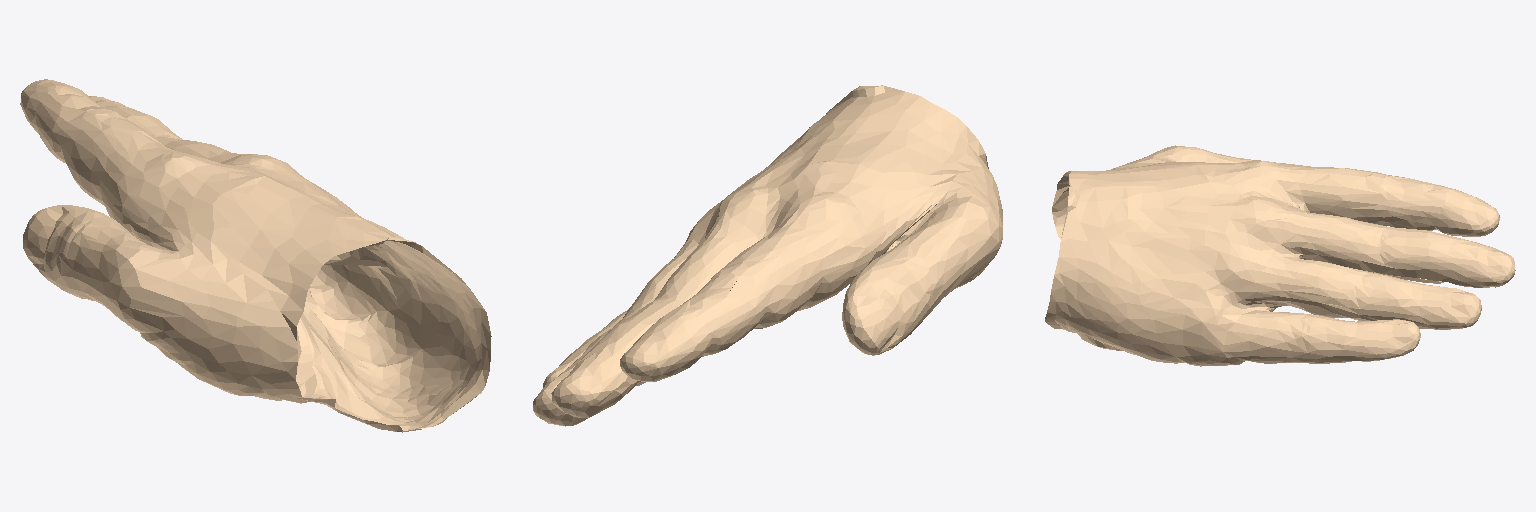
The robot description file, URDF, robot "hand_right":
<?xml version="1.0" ?>
<robot name="hand_right">

    <material name="SkinColor">
        <color rgba="1.0 0.88 0.74 1.0"/>
    </material>

    <link name="root">
        <inertial>
            <mass value="1"/>
            <inertia ixx="1.0" ixy="0.0" ixz="0.0" iyy="1.0" iyz="0.0" izz="1.0"/>
        </inertial>
    </link>

    <link name="base_0">
        <inertial>
            <mass value="1"/>
            <inertia ixx="1.0" ixy="0.0" ixz="0.0" iyy="1.0" iyz="0.0" izz="1.0"/>
        </inertial>
    </link>

    <link name="base">
        <visual>
            <geometry>
                <mesh filename="package://meshes/asr_cyberglove//bone_0_0.dae" scale="0.001 0.001 0.001" />
            </geometry>
            <material name="SkinColor"/>
        </visual>
        <collision>
            <geometry>
                <mesh filename="package://meshes/asr_cyberglove//bone_0_0.dae" scale="0.001 0.001 0.001" />
            </geometry>
        </collision>
        <inertial>
            <mass value="1"/>
            <inertia ixx="1.0" ixy="0.0" ixz="0.0" iyy="1.0" iyz="0.0" izz="1.0"/>
        </inertial>
    </link>

    <link name="pinky_meta_0">
        <visual>
            <geometry>
                <mesh filename="package://meshes/asr_cyberglove//bone_0_1.dae" scale="0.001 0.001 0.001" />
            </geometry>
            <material name="SkinColor"/>
        </visual>
        <collision>
            <geometry>
                <mesh filename="package://meshes/asr_cyberglove//bone_0_1.dae" scale="0.001 0.001 0.001" />
            </geometry>
        </collision>
        <inertial>
            <mass value="1"/>
            <inertia ixx="1.0" ixy="0.0" ixz="0.0" iyy="1.0" iyz="0.0" izz="1.0"/>
        </inertial>
    </link>

    <link name="pinky_meta">
        <inertial>
            <mass value="1"/>
            <inertia ixx="1.0" ixy="0.0" ixz="0.0" iyy="1.0" iyz="0.0" izz="1.0"/>
        </inertial>
    </link>

    <link name="pinky_proximal">
        <visual>
            <geometry>
                <mesh filename="package://meshes/asr_cyberglove//bone_0_2.dae" scale="0.001 0.001 0.001" />
            </geometry>
            <material name="SkinColor"/>
        </visual>
        <collision>
            <geometry>
                <mesh filename="package://meshes/asr_cyberglove//bone_0_2.dae" scale="0.001 0.001 0.001" />
            </geometry>
        </collision>
        <inertial>
            <mass value="1"/>
            <inertia ixx="1.0" ixy="0.0" ixz="0.0" iyy="1.0" iyz="0.0" izz="1.0"/>
        </inertial>
    </link>

    <link name="pinky_middle">
        <visual>
            <geometry>
                <mesh filename="package://meshes/asr_cyberglove//bone_0_3.dae" scale="0.001 0.001 0.001" />
            </geometry>
            <material name="SkinColor"/>
        </visual>
        <collision>
            <geometry>
                <mesh filename="package://meshes/asr_cyberglove//bone_0_3.dae" scale="0.001 0.001 0.001" />
            </geometry>
        </collision>
        <inertial>
            <mass value="1"/>
            <inertia ixx="1.0" ixy="0.0" ixz="0.0" iyy="1.0" iyz="0.0" izz="1.0"/>
        </inertial>
    </link>

    <link name="pinky_distal">
        <visual>
            <geometry>
                <mesh filename="package://meshes/asr_cyberglove//bone_0_4.dae" scale="0.001 0.001 0.001" />
            </geometry>
            <material name="SkinColor"/>
        </visual>
        <collision>
            <geometry>
                <mesh filename="package://meshes/asr_cyberglove//bone_0_4.dae" scale="0.001 0.001 0.001" />
            </geometry>
        </collision>
        <inertial>
            <mass value="1"/>
            <inertia ixx="1.0" ixy="0.0" ixz="0.0" iyy="1.0" iyz="0.0" izz="1.0"/>
        </inertial>
    </link>

    <link name="ring_meta_0">
        <visual>
            <geometry>
                <mesh filename="package://meshes/asr_cyberglove//bone_0_6.dae" scale="0.001 0.001 0.001" />
            </geometry>
            <material name="SkinColor"/>
        </visual>
        <collision>
            <geometry>
                <mesh filename="package://meshes/asr_cyberglove//bone_0_6.dae" scale="0.001 0.001 0.001" />
            </geometry>
        </collision>
        <inertial>
            <mass value="1"/>
            <inertia ixx="1.0" ixy="0.0" ixz="0.0" iyy="1.0" iyz="0.0" izz="1.0"/>
        </inertial>
    </link>

    <link name="ring_meta">
        <inertial>
            <mass value="1"/>
            <inertia ixx="1.0" ixy="0.0" ixz="0.0" iyy="1.0" iyz="0.0" izz="1.0"/>
        </inertial>
    </link>

    <link name="ring_proximal">
        <visual>
            <geometry>
                <mesh filename="package://meshes/asr_cyberglove//bone_0_7.dae" scale="0.001 0.001 0.001" />
            </geometry>
            <material name="SkinColor"/>
        </visual>
        <collision>
            <geometry>
                <mesh filename="package://meshes/asr_cyberglove//bone_0_7.dae" scale="0.001 0.001 0.001" />
            </geometry>
        </collision>
        <inertial>
            <mass value="1"/>
            <inertia ixx="1.0" ixy="0.0" ixz="0.0" iyy="1.0" iyz="0.0" izz="1.0"/>
        </inertial>
    </link>

    <link name="ring_middle">
        <visual>
            <geometry>
                <mesh filename="package://meshes/asr_cyberglove//bone_0_8.dae" scale="0.001 0.001 0.001" />
            </geometry>
            <material name="SkinColor"/>
        </visual>
        <collision>
            <geometry>
                <mesh filename="package://meshes/asr_cyberglove//bone_0_8.dae" scale="0.001 0.001 0.001" />
            </geometry>
        </collision>
        <inertial>
            <mass value="1"/>
            <inertia ixx="1.0" ixy="0.0" ixz="0.0" iyy="1.0" iyz="0.0" izz="1.0"/>
        </inertial>
    </link>

    <link name="ring_distal">
        <visual>
            <geometry>
                <mesh filename="package://meshes/asr_cyberglove//bone_0_9.dae" scale="0.001 0.001 0.001" />
            </geometry>
            <material name="SkinColor"/>
        </visual>
        <collision>
            <geometry>
                <mesh filename="package://meshes/asr_cyberglove//bone_0_9.dae" scale="0.001 0.001 0.001" />
            </geometry>
        </collision>
        <inertial>
            <mass value="1"/>
            <inertia ixx="1.0" ixy="0.0" ixz="0.0" iyy="1.0" iyz="0.0" izz="1.0"/>
        </inertial>
    </link>

    <link name="middle_meta_0">
        <visual>
            <geometry>
                <mesh filename="package://meshes/asr_cyberglove//bone_0_11.dae" scale="0.001 0.001 0.001" />
            </geometry>
            <material name="SkinColor"/>
        </visual>
        <collision>
            <geometry>
                <mesh filename="package://meshes/asr_cyberglove//bone_0_11.dae" scale="0.001 0.001 0.001" />
            </geometry>
        </collision>
        <inertial>
            <mass value="1"/>
            <inertia ixx="1.0" ixy="0.0" ixz="0.0" iyy="1.0" iyz="0.0" izz="1.0"/>
        </inertial>
    </link>

    <link name="middle_meta">
        <inertial>
            <mass value="1"/>
            <inertia ixx="1.0" ixy="0.0" ixz="0.0" iyy="1.0" iyz="0.0" izz="1.0"/>
        </inertial>
    </link>

    <link name="middle_proximal">
        <visual>
            <geometry>
                <mesh filename="package://meshes/asr_cyberglove//bone_0_12.dae" scale="0.001 0.001 0.001" />
            </geometry>
            <material name="SkinColor"/>
        </visual>
        <collision>
            <geometry>
                <mesh filename="package://meshes/asr_cyberglove//bone_0_12.dae" scale="0.001 0.001 0.001" />
            </geometry>
        </collision>
        <inertial>
            <mass value="1"/>
            <inertia ixx="1.0" ixy="0.0" ixz="0.0" iyy="1.0" iyz="0.0" izz="1.0"/>
        </inertial>
    </link>

    <link name="middle_middle">
        <visual>
            <geometry>
                <mesh filename="package://meshes/asr_cyberglove//bone_0_13.dae" scale="0.001 0.001 0.001" />
            </geometry>
            <material name="SkinColor"/>
        </visual>
        <collision>
            <geometry>
                <mesh filename="package://meshes/asr_cyberglove//bone_0_13.dae" scale="0.001 0.001 0.001" />
            </geometry>
        </collision>
        <inertial>
            <mass value="1"/>
            <inertia ixx="1.0" ixy="0.0" ixz="0.0" iyy="1.0" iyz="0.0" izz="1.0"/>
        </inertial>
    </link>

    <link name="middle_distal">
        <visual>
            <geometry>
                <mesh filename="package://meshes/asr_cyberglove//bone_0_14.dae" scale="0.001 0.001 0.001" />
            </geometry>
            <material name="SkinColor"/>
        </visual>
        <collision>
            <geometry>
                <mesh filename="package://meshes/asr_cyberglove//bone_0_14.dae" scale="0.001 0.001 0.001" />
            </geometry>
        </collision>
        <inertial>
            <mass value="1"/>
            <inertia ixx="1.0" ixy="0.0" ixz="0.0" iyy="1.0" iyz="0.0" izz="1.0"/>
        </inertial>
    </link>

    <link name="index_meta_0">
        <visual>
            <geometry>
                <mesh filename="package://meshes/asr_cyberglove//bone_0_16.dae" scale="0.001 0.001 0.001" />
            </geometry>
            <material name="SkinColor"/>
        </visual>
        <collision>
            <geometry>
                <mesh filename="package://meshes/asr_cyberglove//bone_0_16.dae" scale="0.001 0.001 0.001" />
            </geometry>
        </collision>
        <inertial>
            <mass value="1"/>
            <inertia ixx="1.0" ixy="0.0" ixz="0.0" iyy="1.0" iyz="0.0" izz="1.0"/>
        </inertial>
    </link>

    <link name="index_meta">
        <inertial>
            <mass value="1"/>
            <inertia ixx="1.0" ixy="0.0" ixz="0.0" iyy="1.0" iyz="0.0" izz="1.0"/>
        </inertial>
    </link>

    <link name="index_proximal">
        <visual>
            <geometry>
            <mesh filename="package://meshes/asr_cyberglove//bone_0_17.dae" scale="0.001 0.001 0.001" />
            </geometry>
            <material name="SkinColor"/>
        </visual>
        <collision>
            <geometry>
                <mesh filename="package://meshes/asr_cyberglove//bone_0_17.dae" scale="0.001 0.001 0.001" />
            </geometry>
        </collision>
        <inertial>
            <mass value="1"/>
            <inertia ixx="1.0" ixy="0.0" ixz="0.0" iyy="1.0" iyz="0.0" izz="1.0"/>
        </inertial>
    </link>

    <link name="index_middle">
        <visual>
            <geometry>
                <mesh filename="package://meshes/asr_cyberglove//bone_0_18.dae" scale="0.001 0.001 0.001" />
            </geometry>
            <material name="SkinColor"/>
        </visual>
        <collision>
            <geometry>
                <mesh filename="package://meshes/asr_cyberglove//bone_0_18.dae" scale="0.001 0.001 0.001" />
            </geometry>
        </collision>
        <inertial>
            <mass value="1"/>
            <inertia ixx="1.0" ixy="0.0" ixz="0.0" iyy="1.0" iyz="0.0" izz="1.0"/>
        </inertial>
    </link>

    <link name="index_distal">
        <visual>
            <geometry>
                <mesh filename="package://meshes/asr_cyberglove//bone_0_19.dae" scale="0.001 0.001 0.001" />
            </geometry>
            <material name="SkinColor"/>
        </visual>
        <collision>
            <geometry>
                <mesh filename="package://meshes/asr_cyberglove//bone_0_19.dae" scale="0.001 0.001 0.001" />
            </geometry>
        </collision>
        <inertial>
            <mass value="1"/>
            <inertia ixx="1.0" ixy="0.0" ixz="0.0" iyy="1.0" iyz="0.0" izz="1.0"/>
        </inertial>
    </link>

    <link name="thumb_meta_0">
        <inertial>
            <mass value="1"/>
            <inertia ixx="1.0" ixy="0.0" ixz="0.0" iyy="1.0" iyz="0.0" izz="1.0"/>
        </inertial>
    </link>

    <link name="thumb_meta">
        <visual>
            <geometry>
                <mesh filename="package://meshes/asr_cyberglove//bone_0_21.dae" scale="0.001 0.001 0.001" />
            </geometry>
            <material name="SkinColor"/>
        </visual>
        <collision>
            <geometry>
                <mesh filename="package://meshes/asr_cyberglove//bone_0_21.dae" scale="0.001 0.001 0.001" />
            </geometry>
        </collision>
        <inertial>
            <mass value="1"/>
            <inertia ixx="1.0" ixy="0.0" ixz="0.0" iyy="1.0" iyz="0.0" izz="1.0"/>
        </inertial>
    </link>

    <link name="thumb_proximal">
        <visual>
            <geometry>
                <mesh filename="package://meshes/asr_cyberglove//bone_0_22.dae" scale="0.001 0.001 0.001" />
            </geometry>
            <material name="SkinColor"/>
        </visual>
        <collision>
            <geometry>
                <mesh filename="package://meshes/asr_cyberglove//bone_0_22.dae" scale="0.001 0.001 0.001" />
            </geometry>
        </collision>
        <inertial>
            <mass value="1"/>
            <inertia ixx="1.0" ixy="0.0" ixz="0.0" iyy="1.0" iyz="0.0" izz="1.0"/>
        </inertial>
    </link>

    <link name="thumb_distal">
        <visual>
            <geometry>
                <mesh filename="package://meshes/asr_cyberglove//bone_0_23.dae" scale="0.001 0.001 0.001" />
            </geometry>
            <material name="SkinColor"/>
        </visual>
        <collision>
            <geometry>
                <mesh filename="package://meshes/asr_cyberglove//bone_0_23.dae" scale="0.001 0.001 0.001" />
            </geometry>
        </collision>
        <inertial>
            <mass value="1"/>
            <inertia ixx="1.0" ixy="0.0" ixz="0.0" iyy="1.0" iyz="0.0" izz="1.0"/>
        </inertial>
    </link>

    <joint name="wr_j0" type="revolute">
        <parent link="root"/>
        <child link="base_0"/>
        <origin xyz="0 0 0" rpy="1.57 0 0" />
        <axis xyz="0 0 1" />
        <limit lower="-0.698131700798" upper="0.488692190558"/>
    </joint>

    <joint name="wr_j1" type="revolute">
        <parent link="base_0"/>
        <child link="base"/>
        <axis xyz="1 0 0" />
        <limit lower="-0.523598775598" upper="0.174532925199" />
    </joint>

    <joint name="base_pinky" type="fixed">
        <parent link="base"/>
        <child link="pinky_meta_0"/>
        <origin xyz="-0.024912 0.008636 0.002422" rpy="2.80824 -0.811484 -2.74123" />
    </joint>

    <joint name="pi_j0" type="continuous">
        <parent link="pinky_meta_0"/>
        <child link="pinky_meta"/>
        <origin xyz="0.000000 0.063265 -0.000000" rpy="0.0196487 -0.191181 0.113497" />
        <axis xyz="0 0 1" />
    </joint>

    <joint name="pi_j1" type="continuous">
        <parent link="pinky_meta"/>
        <child link="pinky_proximal"/>
        <axis xyz="1 0 0" />
    </joint>

    <joint name="pi_j2" type="continuous">
        <parent link="pinky_proximal"/>
        <child link="pinky_middle"/>
        <origin xyz="0.000000 0.034557 0.000000" rpy="0.0304249 -0.0981504 0.133914" />
        <axis xyz="1 0 0" />
    </joint>

    <joint name="pi_j3" type="continuous">
        <parent link="pinky_middle"/>
        <child link="pinky_distal"/>
        <origin xyz="0.000000 0.025298 -0.000000" rpy="-0.0317568 0.00503542 0.0988644" />
        <axis xyz="1 0 0" />
    </joint>

    <joint name="base_ring" type="fixed">
        <parent link="base"/>
        <child link="ring_meta_0"/>
        <origin xyz="-0.012468 0.014241 -0.007279" rpy="3.03476 -0.620396 -2.98236" />
    </joint>

    <joint name="ri_j0" type="continuous">
        <parent link="ring_meta_0"/>
        <child link="ring_meta"/>
        <origin xyz="0.000000 0.069086 -0.000000" rpy="-0.153666 -0.161247 0.0107861" />
        <axis xyz="0 0 1" />
    </joint>

    <joint name="ri_j1" type="continuous">
        <parent link="ring_meta"/>
        <child link="ring_proximal"/>
        <axis xyz="1 0 0" />
    </joint>

    <joint name="ri_j2" type="continuous">
        <parent link="ring_proximal"/>
        <child link="ring_middle"/>
        <origin xyz="-0.000000 0.042662 -0.000000" rpy="0.0661994 0.10508 -0.0317381" />
        <axis xyz="1 0 0" />
    </joint>

    <joint name="ri_j3" type="continuous">
        <parent link="ring_middle"/>
        <child link="ring_distal"/>
        <origin xyz="0.000000 0.028928 0.000000" rpy="0.102201 -0.0505654 0.0213048" />
        <axis xyz="1 0 0" />
    </joint>

    <joint name="base_middle" type="fixed">
        <parent link="base"/>
        <child link="middle_meta_0"/>
        <origin xyz="0.001406 0.015512 -0.015156" rpy="3.13273 -0.39616 -3.08577" />
    </joint>

    <joint name="mi_j0" type="continuous">
        <parent link="middle_meta_0"/>
        <child link="middle_meta"/>
        <origin xyz="0.000000 0.073864 -0.000000" rpy="-0.182864 0.0762588 -0.0585634" />
        <axis xyz="0 0 1" />
    </joint>

    <joint name="mi_j1" type="continuous">
        <parent link="middle_meta"/>
        <child link="middle_proximal"/>
        <axis xyz="1 0 0" />
    </joint>

    <joint name="mi_j2" type="continuous">
        <parent link="middle_proximal"/>
        <child link="middle_middle"/>
        <origin xyz="0.000000 0.047566 -0.000000" rpy="0.109335 -0.0553835 -0.0593373" />
        <axis xyz="1 0 0" />
    </joint>

    <joint name="mi_j3" type="continuous">
        <parent link="middle_middle"/>
        <child link="middle_distal"/>
        <origin xyz="0.000000 0.034300 -0.000000" rpy="-0.0872514 -0.116106 0.0635088" />
        <axis xyz="1 0 0" />
    </joint>

    <joint name="base_index" type="fixed">
        <parent link="base"/>
        <child link="index_meta_0"/>
        <origin xyz="0.013404 0.016245 -0.018323" rpy="-3.09499 -0.222842 3.05505" />
    </joint>

    <joint name="in_j0" type="continuous">
        <parent link="index_meta_0"/>
        <child link="index_meta"/>
        <origin xyz="-0.000000 0.075750 -0.000000" rpy="-0.118925 0.0819517 -0.100102" />
        <axis xyz="0 0 1" />
    </joint>

    <joint name="in_j1" type="continuous">
        <parent link="index_meta"/>
        <child link="index_proximal"/>
        <axis xyz="1 0 0" />
    </joint>

    <joint name="in_j2" type="continuous">
        <parent link="index_proximal"/>
        <child link="index_middle"/>
        <origin xyz="0.000000 0.045655 -0.000000" rpy="-0.0306015 0.116715 -0.183591" />
        <axis xyz="1 0 0" />
    </joint>

    <joint name="in_j3" type="continuous">
        <parent link="index_middle"/>
        <child link="index_distal"/>
        <origin xyz="0.000000 0.023888 0.000000" rpy="0.102189 -0.0180627 -0.0869717" />
        <axis xyz="1 0 0" />
    </joint>

    <joint name="th_j0" type="continuous">
        <parent link="base"/>
        <child link="thumb_meta_0"/>
        <origin xyz="0.024445 0.010599 -0.003052" rpy="-2.87468 0.716929 2.69534" />
        <axis xyz="0 0 1" />
    </joint>

    <joint name="th_j1" type="continuous">
        <parent link="thumb_meta_0"/>
        <child link="thumb_meta"/>
        <axis xyz="1 0 0" />
    </joint>

    <joint name="th_j2" type="continuous">
        <parent link="thumb_meta"/>
        <child link="thumb_proximal"/>
        <origin xyz="0.000000 0.050024 -0.000000" rpy="-0.711146 -0.339941 -0.0309624" />
        <axis xyz="1 0 0" />
    </joint>

    <joint name="th_j3" type="continuous">
        <parent link="thumb_proximal"/>
        <child link="thumb_distal"/>
        <origin xyz="0.000000 0.034977 -0.000000" rpy="-0.00830731 0.0670157 0.0352878" />
        <axis xyz="1 0 0" />
    </joint>

    <!-- additional dummy link and joint for using asr_flock_of_birds -->

    <link name="fob_sensor">
        <inertial>
            <mass value="1"/>
            <inertia ixx="1.0" ixy="0.0" ixz="0.0" iyy="1.0" iyz="0.0" izz="1.0"/>
        </inertial>
    </link>

    <joint name="fob_base" type="fixed">
        <parent link="fob_sensor"/>
        <child link="root"/>
        <origin xyz="0 0 0" rpy="1.57 0 3.14" />
    </joint>

</robot>

--- What the picture shows (computed from the rendered views, not written in the file) ---
The picture shows the robot from 3 angles, left to right: view 1: azimuth 30°, elevation 25°; view 2: azimuth 150°, elevation 25°; view 3: azimuth 270°, elevation 25°; orthographic projection.
Robot: hand_right — 28 links, 27 joints (2 revolute, 20 continuous, 5 fixed); root link fob_sensor; default pose: every joint at zero.
Links seen in each view (by area): view 1: thumb_meta, index_meta_0, pinky_meta_0, index_proximal, pinky_proximal, thumb_proximal, middle_meta_0, ring_meta_0, thumb_distal, index_middle, base, middle_proximal (+3 smaller); view 2: index_meta_0, index_proximal, thumb_distal, middle_meta_0, thumb_proximal, middle_proximal, index_middle, thumb_meta, index_distal, middle_distal, middle_middle, ring_proximal (+2 smaller); view 3: pinky_meta_0, ring_meta_0, middle_meta_0, ring_proximal, middle_proximal, pinky_proximal, index_proximal, middle_middle, index_meta_0, ring_middle, pinky_middle, index_distal (+6 smaller).
Boxes of the visible links, left/top/right/bottom form: thumb_meta: left=103, top=230, right=444, bottom=431; index_meta_0: left=103, top=152, right=388, bottom=327; pinky_meta_0: left=298, top=251, right=491, bottom=429; index_proximal: left=46, top=108, right=204, bottom=245; pinky_proximal: left=305, top=253, right=412, bottom=379; thumb_proximal: left=55, top=215, right=165, bottom=342; middle_meta_0: left=223, top=155, right=420, bottom=326; ring_meta_0: left=297, top=180, right=480, bottom=367; thumb_distal: left=23, top=205, right=130, bottom=298; index_middle: left=24, top=85, right=111, bottom=162; base: left=288, top=342, right=467, bottom=432; middle_proximal: left=152, top=131, right=277, bottom=164; index_meta_0: left=777, top=85, right=985, bottom=310; index_proximal: left=711, top=197, right=891, bottom=332; thumb_distal: left=842, top=245, right=940, bottom=355; middle_meta_0: left=720, top=85, right=912, bottom=230; thumb_proximal: left=873, top=196, right=1002, bottom=313; middle_proximal: left=649, top=193, right=782, bottom=305; index_middle: left=669, top=265, right=781, bottom=366; thumb_meta: left=890, top=124, right=1002, bottom=288; index_distal: left=620, top=300, right=720, bottom=381; middle_distal: left=551, top=346, right=638, bottom=417; middle_middle: left=591, top=293, right=681, bottom=395; ring_proximal: left=623, top=210, right=714, bottom=318; pinky_meta_0: left=1045, top=240, right=1245, bottom=365; ring_meta_0: left=1060, top=195, right=1264, bottom=304; middle_meta_0: left=1068, top=169, right=1286, bottom=240; ring_proximal: left=1230, top=235, right=1367, bottom=320; middle_proximal: left=1252, top=188, right=1395, bottom=275; pinky_proximal: left=1181, top=292, right=1316, bottom=366; index_proximal: left=1260, top=161, right=1401, bottom=226; middle_middle: left=1368, top=225, right=1478, bottom=287; index_meta_0: left=1057, top=153, right=1285, bottom=195; ring_middle: left=1343, top=269, right=1437, bottom=328; pinky_middle: left=1290, top=313, right=1379, bottom=363; index_distal: left=1416, top=185, right=1499, bottom=236.
Size in the robot's own frame: 0.1085 by 0.1965 by 0.0692 metres.
Meshes: 20 distinct files referenced, 20 mesh visuals loaded (20 Collada DAE).